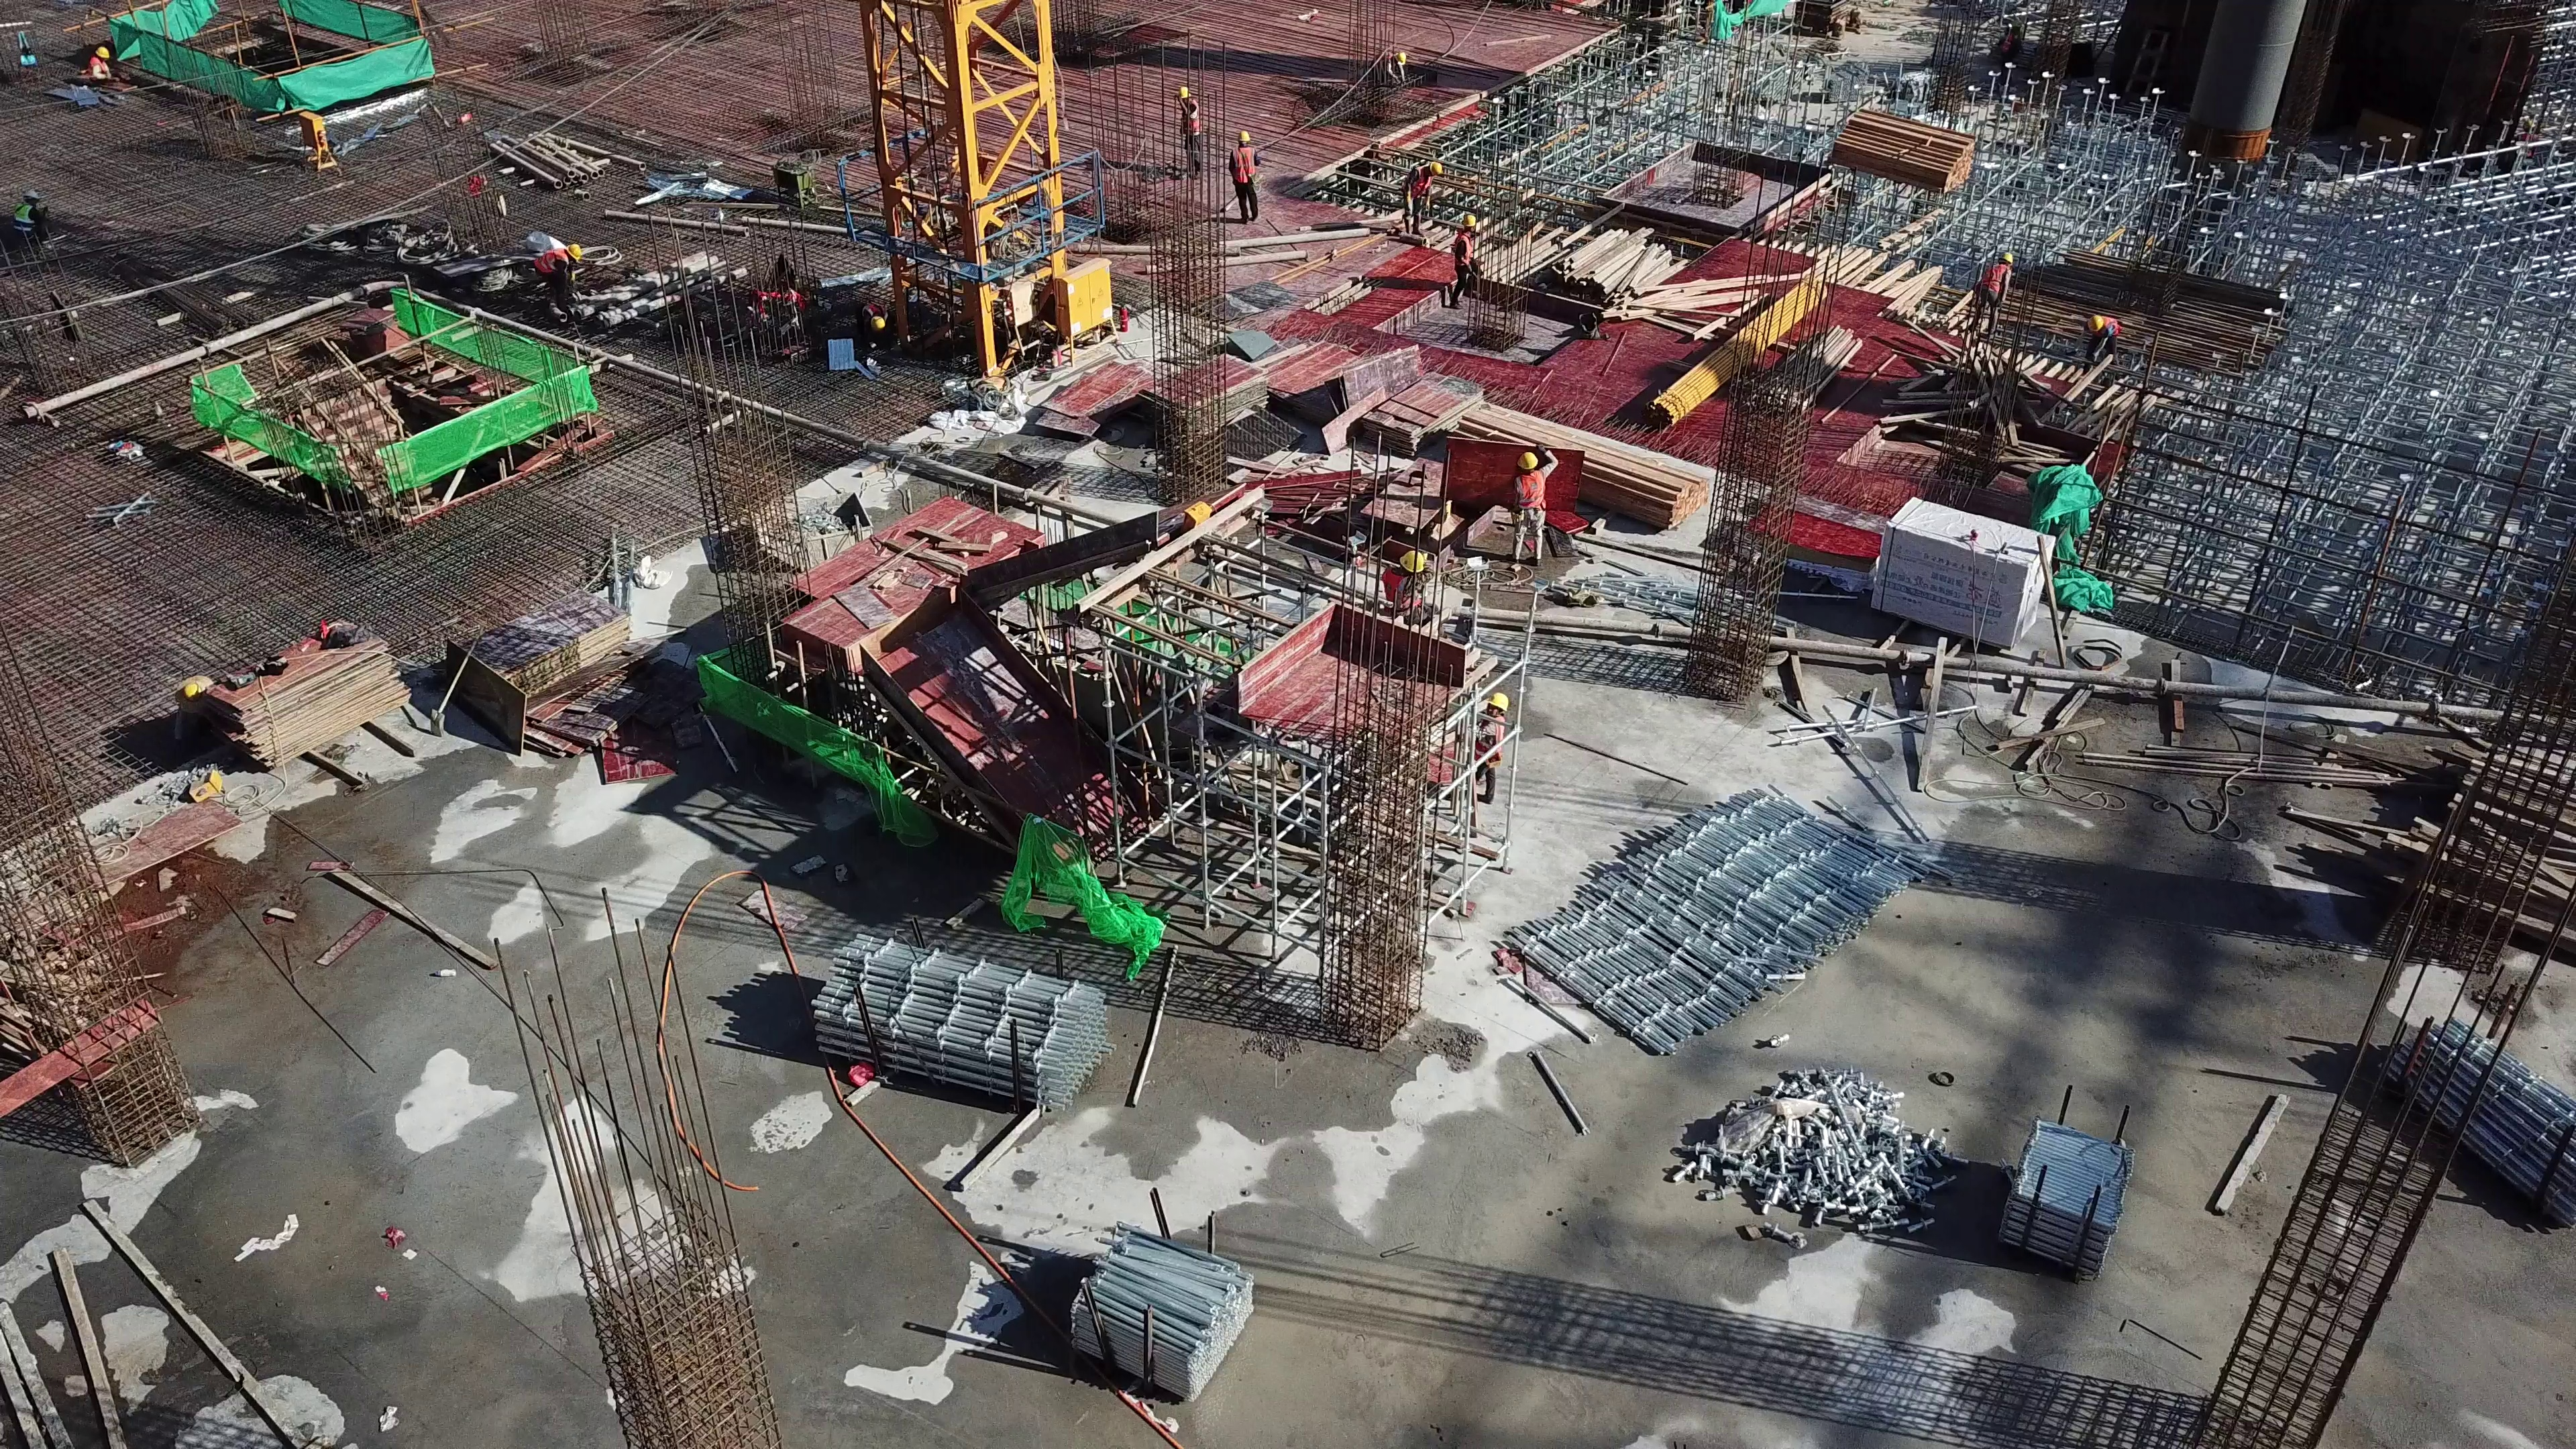board: (440, 584, 633, 762), (175, 634, 405, 777)
person: (1508, 447, 1572, 573), (1216, 117, 1263, 237), (531, 231, 592, 316), (1963, 246, 2018, 336), (1374, 546, 1438, 616), (1394, 158, 1441, 246), (1472, 692, 1511, 797), (1441, 208, 1481, 307), (2080, 301, 2135, 366)
scaffold: (1499, 788, 1911, 1057), (805, 926, 1108, 1124), (1056, 1229, 1260, 1424), (2415, 1007, 2576, 1210), (2009, 1118, 2129, 1284)
wood: (1461, 412, 1709, 537), (1525, 229, 1727, 331)
